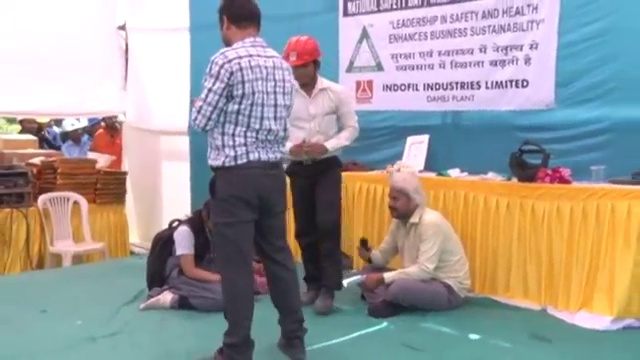helmet: (280, 37, 323, 68), (86, 151, 116, 169), (59, 118, 84, 133), (86, 116, 102, 126)
helmet_off: (209, 0, 268, 46), (385, 174, 426, 223), (16, 115, 40, 136), (102, 115, 120, 134)
helmet_on: (279, 36, 322, 85), (60, 118, 85, 146), (86, 117, 102, 137)
person: (185, 0, 309, 357), (277, 37, 359, 318), (353, 169, 475, 321), (143, 197, 226, 313), (92, 115, 125, 170), (59, 118, 92, 156), (16, 115, 46, 149), (40, 115, 59, 149)
